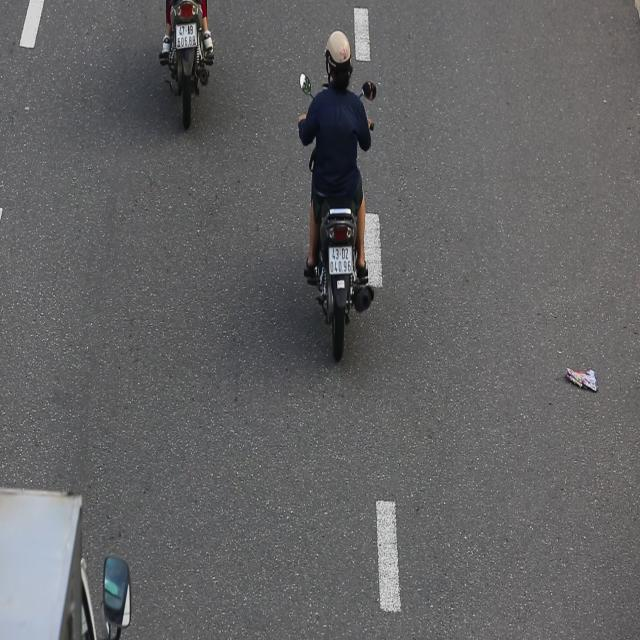motorbike: (294, 18, 386, 403)
